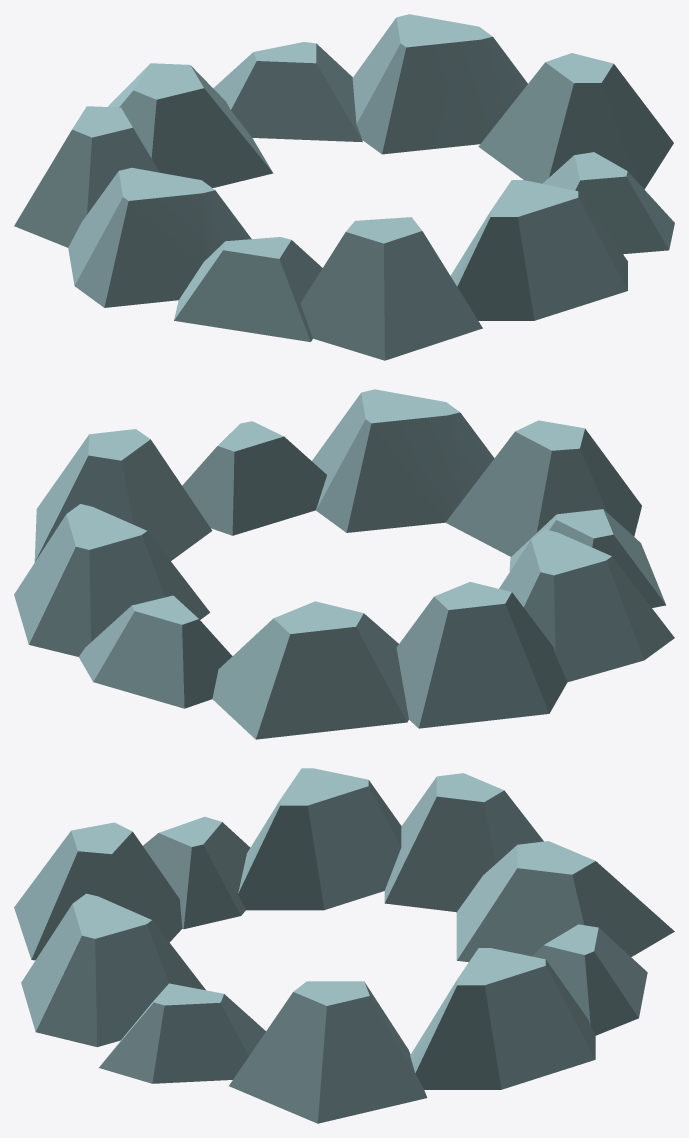
Rendered from campfireStones_rocks.obj.
3 renders of one model, top to bottom at view 1: azimuth 30°, elevation 25°; view 2: azimuth 150°, elevation 25°; view 3: azimuth 270°, elevation 25°, orthographic. The views are drawn at different scales.
Parts seen in each view (by area): view 1: campfireStones_rocks; view 2: campfireStones_rocks; view 3: campfireStones_rocks.
Boxes of the visible parts, x1,y1,x2,y2 form: campfireStones_rocks: (14,14,674,360); campfireStones_rocks: (14,389,674,739); campfireStones_rocks: (14,768,674,1123).
Bounding box in the file's own units: 5.41 × 0.7775 × 5.16.
